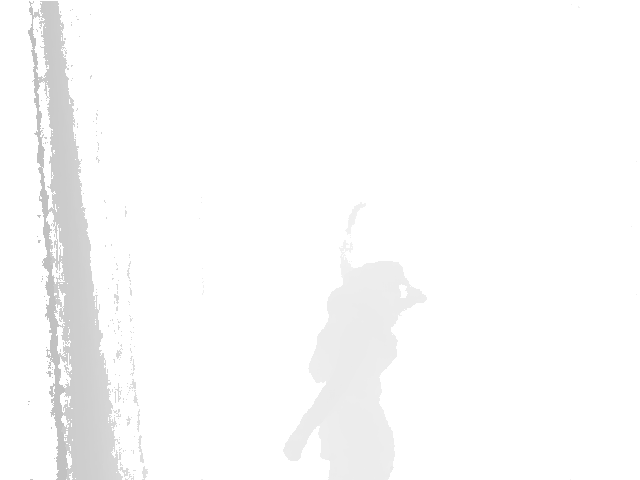hand: (340, 198, 366, 235)
head: (352, 263, 424, 311)
person: (284, 197, 424, 480)
